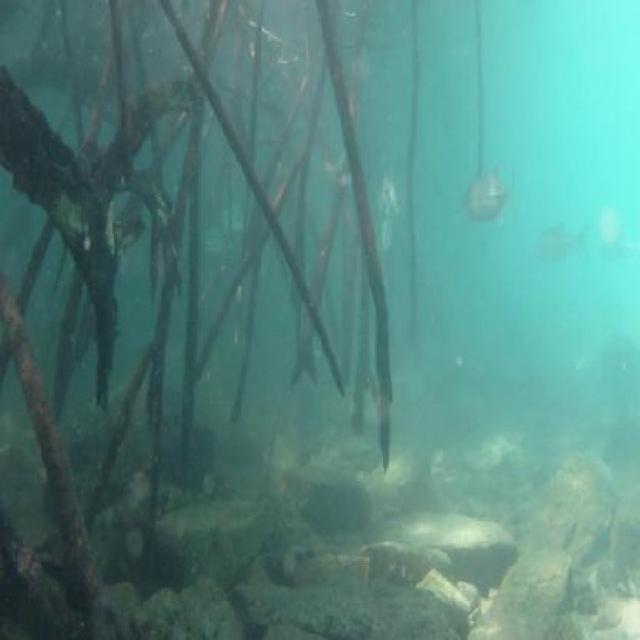Caranx_sexfasciatus_juvenile: (463, 160, 525, 238), (535, 219, 590, 281), (372, 209, 394, 273), (377, 163, 401, 217)
